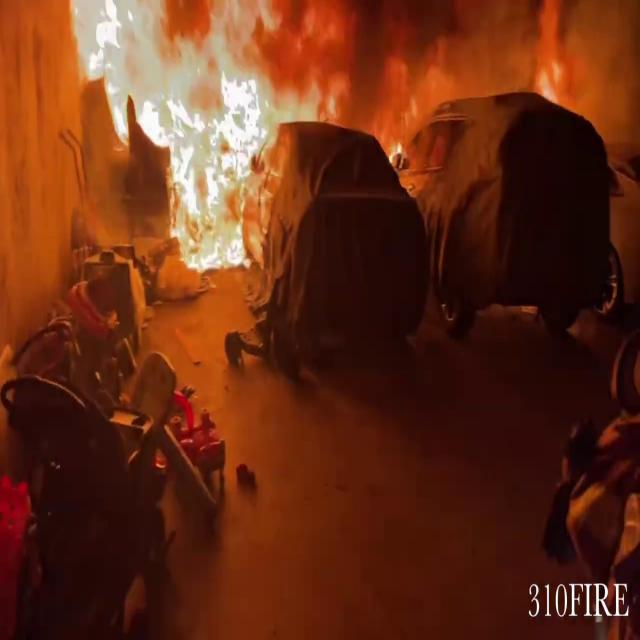Fire: (62, 0, 317, 277)
